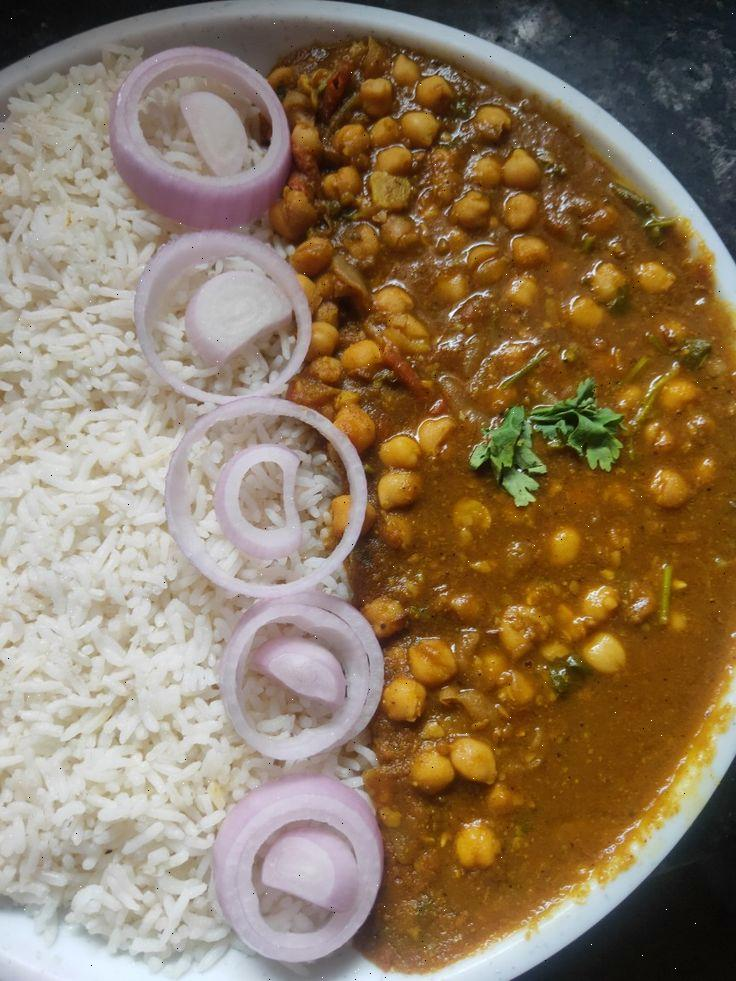chole: (308, 78, 728, 855)
rice: (0, 121, 153, 912)
salad: (155, 63, 372, 928)
